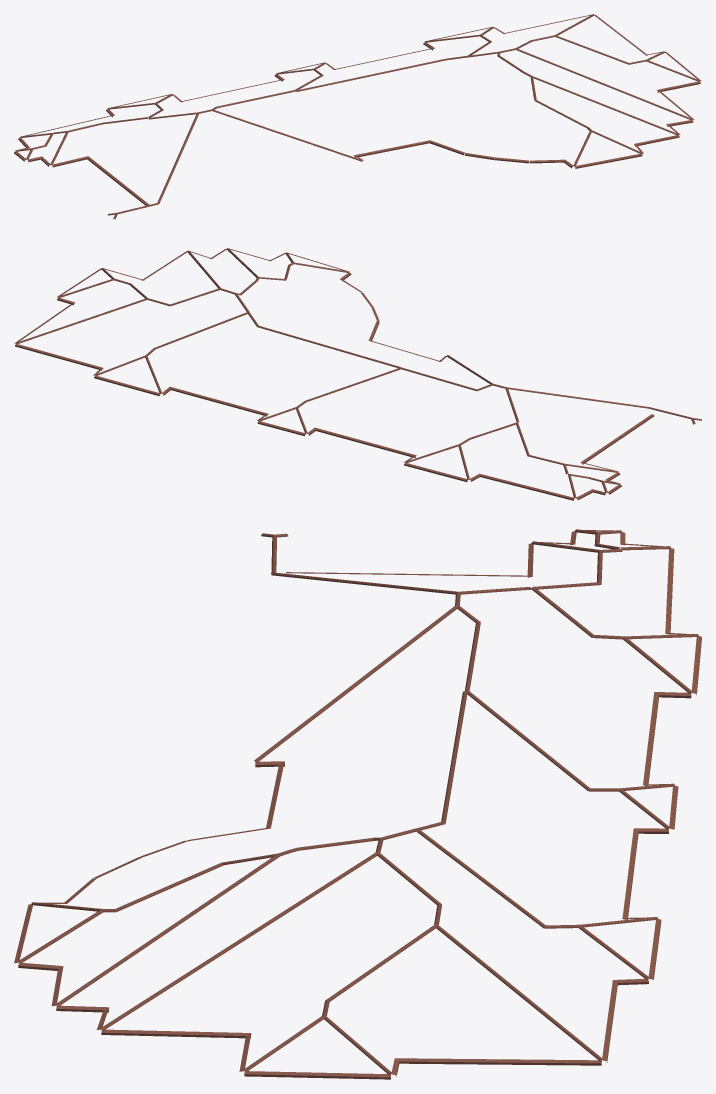
3 renders of one model, top to bottom at view 1: azimuth 30°, elevation 25°; view 2: azimuth 150°, elevation 25°; view 3: azimuth 270°, elevation 25°, orthographic. The views are drawn at different scales.
Parts seen in each view (by area): view 1: detail; view 2: detail; view 3: detail.
Boxes of the visible parts, x1,y1,x2,y2 form: detail: (14,14,701,219); detail: (14,248,701,500); detail: (14,529,701,1079).
Bounding box in the file's own units: 80.07 × 5.95 × 42.51.
